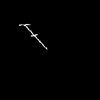double_crochet: (24, 24, 46, 48)
